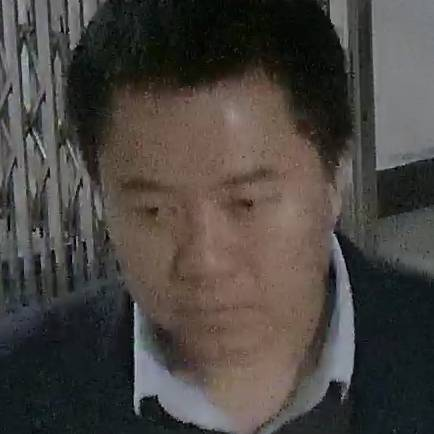gg: (62, 58, 369, 365)
